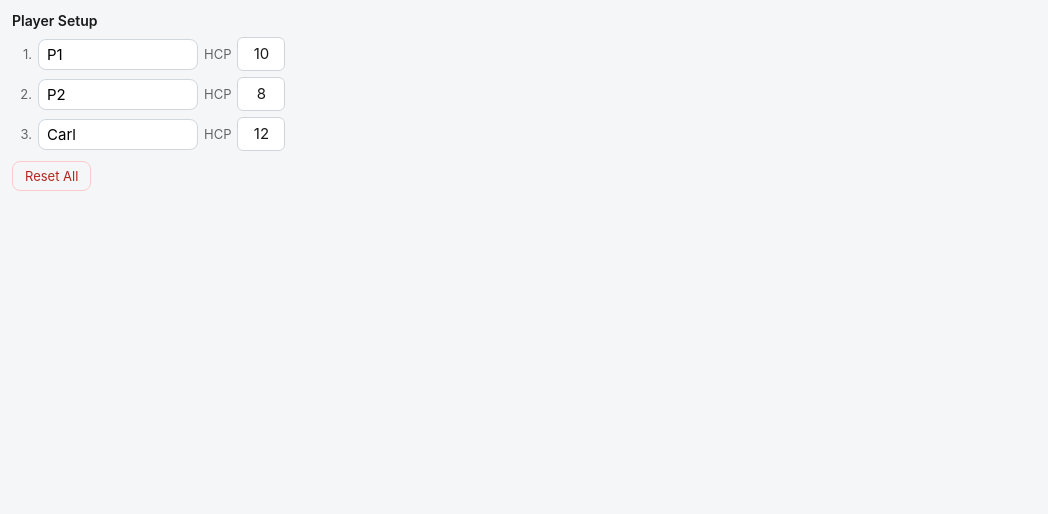
Test case: PlayerSetupPanel — Done button smart-advance › respects the active player count for the current mode — advancing past the last 3p player doesn't crash or reach into unused slots
The image size is (1048, 514).
Click the text "12" at (262, 134), box [238,117,286,151]
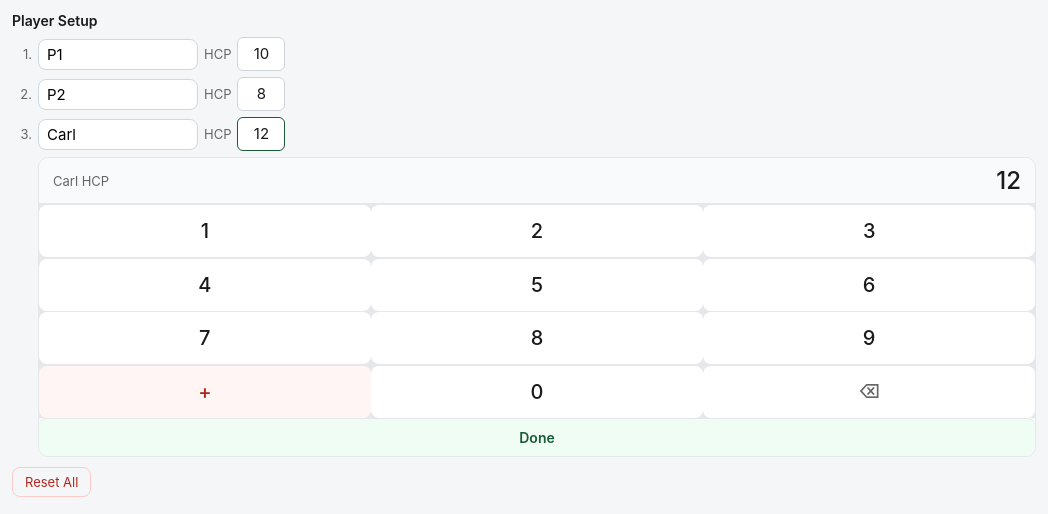
Check: the text "Carl HCP" is shown, box [53,172,109,188]
Press the mouse on the button "Done" at (537, 436), box [39,418,1035,456]
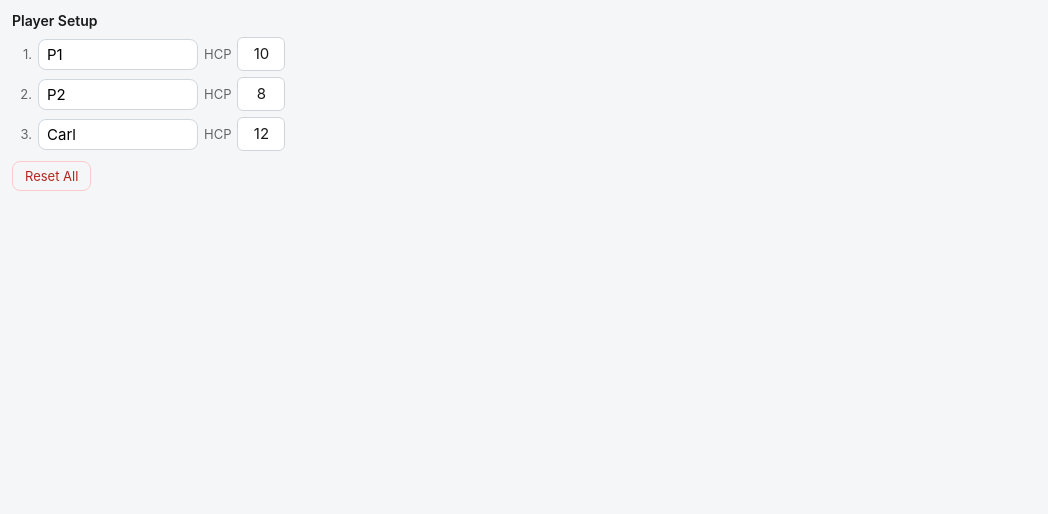
Check: the text "Carl HCP" is gone
